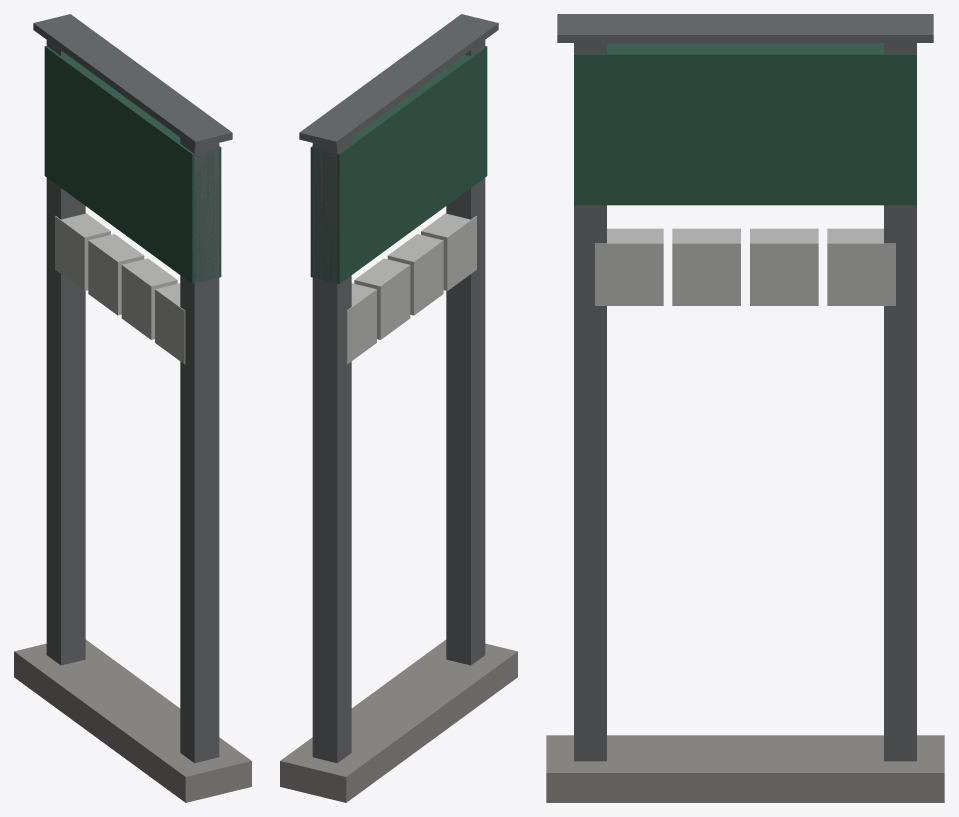
Rendered from SM_Prop_services_pylon_0_LOD2.glb.
3 renders of one model, left to right at view 1: azimuth 30°, elevation 25°; view 2: azimuth 150°, elevation 25°; view 3: azimuth 270°, elevation 25°, orthographic. The views are drawn at different scales.
Parts seen in each view (by area): view 1: SM_Prop_services_pylon_0_LOD2; view 2: SM_Prop_services_pylon_0_LOD2; view 3: SM_Prop_services_pylon_0_LOD2.
Boxes of the visible parts, x1,y1,x2,y2 form: SM_Prop_services_pylon_0_LOD2: (14,14,251,802); SM_Prop_services_pylon_0_LOD2: (280,14,517,802); SM_Prop_services_pylon_0_LOD2: (546,14,944,802).
Size of the model in its own units: 0.8 by 7.57 by 3.6.
